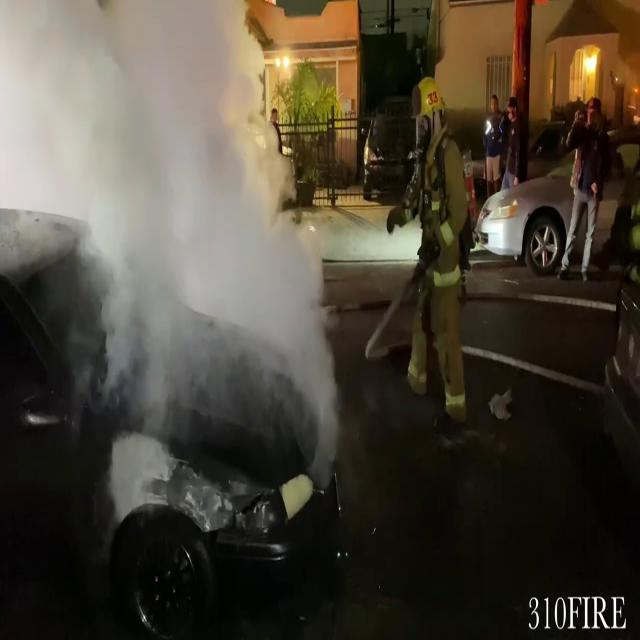Smoke: (29, 0, 346, 439)
